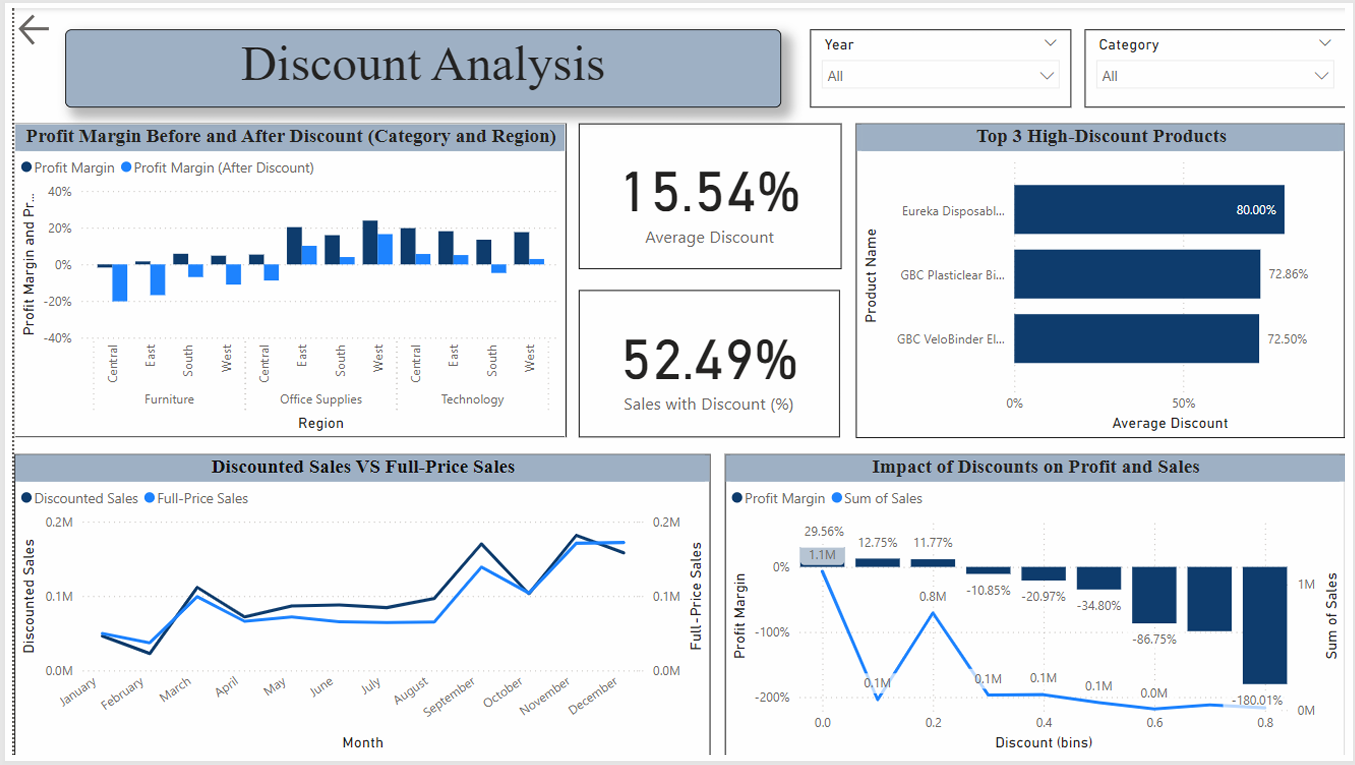

This screenshot's page, from the dashboard's own definition file:
{"tool":"powerbi","page":{"name":"Page 2","canvas":[1280,720],"ordinal":1},"visuals":[{"type":"card","fields":{"Values":["Orders.Average Discount"]},"box":[543.4,111.1,252.5,140],"z":0},{"type":"clusteredColumnChart","title":"Profit Margin Before and After Discount (Category and Region)","fields":{"Y":["Orders.Profit Margin","DateTable.Profit Margin (After Discount)"],"Category":["Orders.Category","Orders.Region"]},"box":[0,111.1,531,301.9],"z":1000},{"type":"lineStackedColumnComboChart","title":"Impact of Discounts on Profit and Sales","fields":{"Category":["Orders.Discount (bins)"],"Y":["Orders.Profit Margin"],"Y2":["Sum(Orders.Sales)"]},"box":[683.4,429.5,596.9,290.9],"z":2000},{"type":"lineChart","title":"Discounted Sales VS Full-Price Sales","fields":{"Category":["Orders.Order Date.Variation.Date Hierarchy.Month"],"Y":["Orders.Discounted Sales"],"Y2":["Orders.Full-Price Sales"]},"box":[0,429.5,669.6,290.9],"z":3000},{"type":"slicer","fields":{"Values":["Orders.Category"]},"box":[1029.2,20.6,251.1,75.5],"z":4000},{"type":"slicer","fields":{"Values":["Orders.Order Date.Variation.Date Hierarchy.Year"]},"box":[765.7,20.6,251.1,75.5],"z":5000},{"type":"textbox","box":[49.4,20.6,688.9,75.5],"z":6000},{"type":"card","fields":{"Values":["Orders.Sales with Discount (%)"]},"box":[543.4,271.7,251.1,141.3],"z":7000},{"type":"clusteredBarChart","title":"Top 3  High-Discount Products","fields":{"Category":["Orders.Product Name"],"Y":["Orders.Average Discount"]},"box":[809.5,111.3,470.8,302],"z":8000},{"type":"actionButton","box":[0,0,39.1,41.6],"z":9000}]}

Visuals, with their boxes in screenshot pixels (x1, y1, x2, y2), scaled from the page's 1280x720 canvas onto the 1355x765 screenshot:
card - Orders.Average Discount: x1=575 y1=118 x2=843 y2=267
"Profit Margin Before and After Discount (Category and Region)" clusteredColumnChart: x1=0 y1=118 x2=562 y2=439
"Impact of Discounts on Profit and Sales" lineStackedColumnComboChart: x1=723 y1=456 x2=1354 y2=764
"Discounted Sales VS Full-Price Sales" lineChart: x1=0 y1=456 x2=709 y2=764
slicer - Orders.Category: x1=1090 y1=22 x2=1354 y2=102
slicer - Orders.Order Date.Variation.Date Hierarchy.Year: x1=811 y1=22 x2=1076 y2=102
textbox: x1=52 y1=22 x2=782 y2=102
card - Orders.Sales with Discount (%): x1=575 y1=289 x2=841 y2=439
"Top 3  High-Discount Products" clusteredBarChart: x1=857 y1=118 x2=1354 y2=439
actionButton: x1=0 y1=0 x2=41 y2=44
